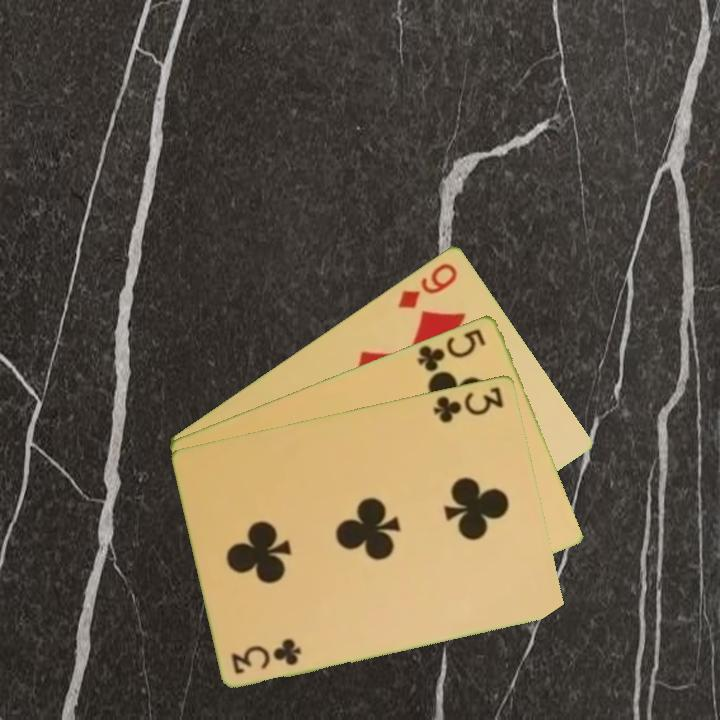3c: (430, 382, 507, 426), (228, 636, 304, 677)
5c: (413, 324, 489, 374)
9d: (394, 258, 461, 311)
